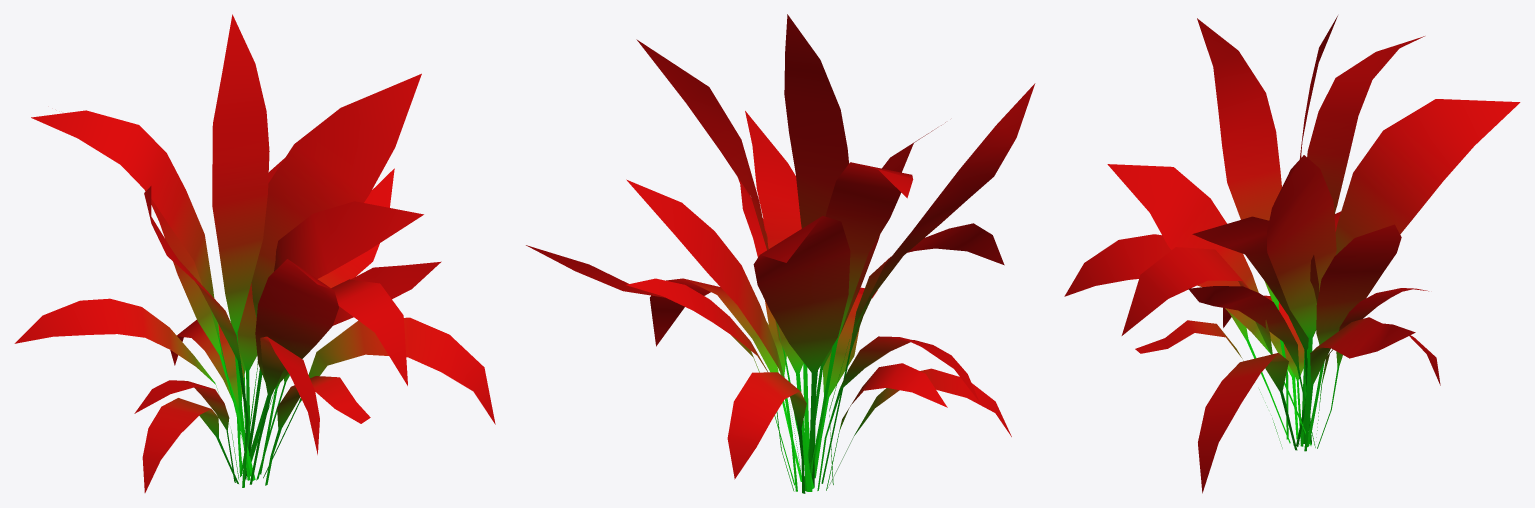
Rendered from Cast - Iron Plant_LOD2_Var4_shdmr.fbx.
The picture shows the model from 3 angles, left to right: view 1: azimuth 30°, elevation 25°; view 2: azimuth 150°, elevation 25°; view 3: azimuth 270°, elevation 25°; orthographic projection. The views are drawn at different scales.
Parts seen in each view (by area): view 1: _d941_Var4_LOD2; view 2: _d941_Var4_LOD2; view 3: _d941_Var4_LOD2.
Boxes of the visible parts, x1,y1,x2,y2 form: _d941_Var4_LOD2: (14, 14, 495, 492); _d941_Var4_LOD2: (526, 14, 1035, 493); _d941_Var4_LOD2: (1064, 16, 1520, 493).
Size of the model in its own units: 55.64 by 59.89 by 57.22.
